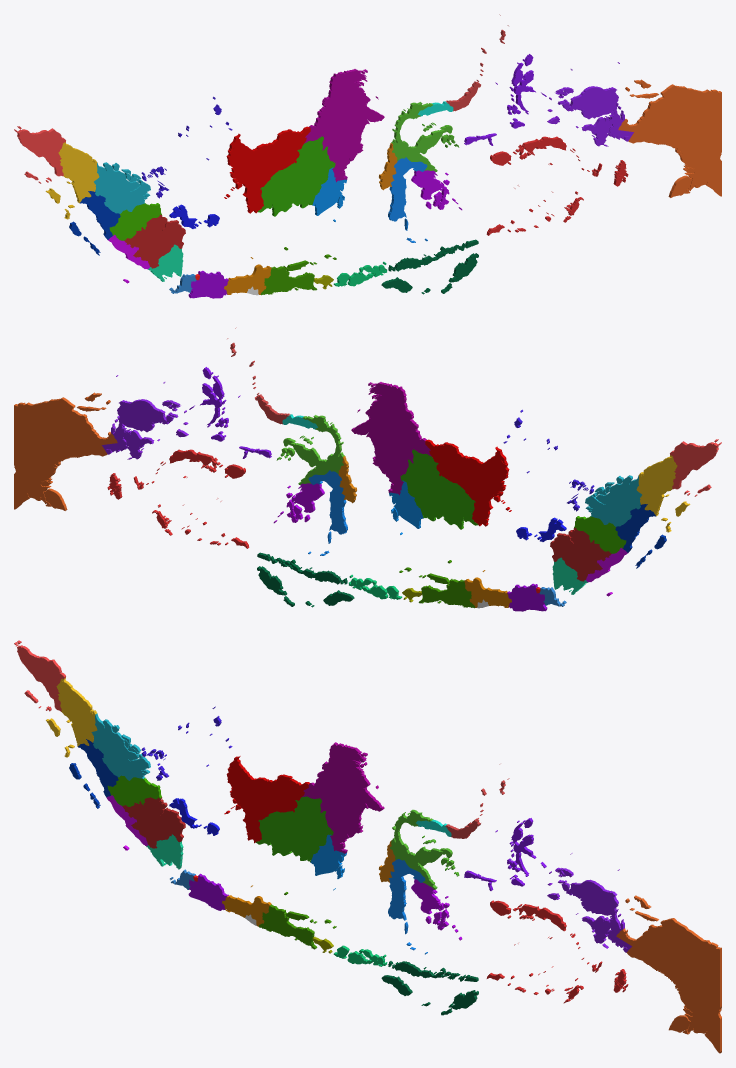
Rendered from peta_provinsi_indonesia.glb.
3 views of the same model, one above another, from view 1: azimuth 30°, elevation 25°; view 2: azimuth 150°, elevation 25°; view 3: azimuth 330°, elevation 25° (orthographic).
Visible parts, largest first — view 1: papua, Kalut, Kalbar, Kalteng, Papua Barat, Riau, Sumsel, Sulteng, Sumut, Maluku, NTT, Aceh (+15 smaller); view 2: papua, Kalut, Kalbar, Kalteng, Papua Barat, Riau, Sumsel, Sulteng, Sumut, Maluku, NTT, Aceh (+15 smaller); view 3: papua, Kalut, Kalbar, Kalteng, Papua Barat, Riau, Sumsel, Sumut, Sulteng, Maluku, NTT, Aceh (+10 smaller).
Part boxes in pixels (bbox=[...]): papua: bbox=[618, 79, 721, 197]; Kalut: bbox=[304, 69, 384, 182]; Kalbar: bbox=[224, 126, 310, 213]; Kalteng: bbox=[258, 136, 335, 216]; Papua Barat: bbox=[547, 62, 633, 146]; Riau: bbox=[94, 162, 150, 213]; Sumsel: bbox=[124, 214, 185, 268]; Sulteng: bbox=[391, 102, 459, 171]; Sumut: bbox=[45, 142, 99, 219]; Maluku: bbox=[486, 136, 628, 235]; NTT: bbox=[381, 239, 478, 294]; Aceh: bbox=[14, 126, 65, 183]; papua: bbox=[14, 392, 117, 510]; Kalut: bbox=[351, 382, 431, 495]; Kalbar: bbox=[425, 439, 511, 526]; Kalteng: bbox=[400, 449, 477, 529]; Papua Barat: bbox=[102, 375, 188, 459]; Riau: bbox=[585, 475, 641, 526]; Sumsel: bbox=[550, 527, 611, 581]; Sulteng: bbox=[276, 415, 344, 484]; Sumut: bbox=[636, 455, 690, 532]; Maluku: bbox=[107, 449, 249, 548]; NTT: bbox=[257, 552, 354, 607]; Aceh: bbox=[670, 439, 721, 496]; papua: bbox=[616, 895, 721, 1053]; Kalut: bbox=[302, 742, 384, 853]; Kalbar: bbox=[224, 756, 310, 843]; Kalteng: bbox=[256, 796, 333, 862]; Papua Barat: bbox=[547, 853, 631, 952]; Riau: bbox=[91, 713, 150, 780]; Sumsel: bbox=[122, 797, 185, 848]; Sumut: bbox=[46, 678, 97, 757]; Sulteng: bbox=[390, 809, 459, 889]; Maluku: bbox=[486, 900, 628, 1003]; NTT: bbox=[381, 961, 478, 1015]; Aceh: bbox=[14, 640, 65, 711].
Size of the model in its own units: 0.2088 by 0.0763 by 0.001.
